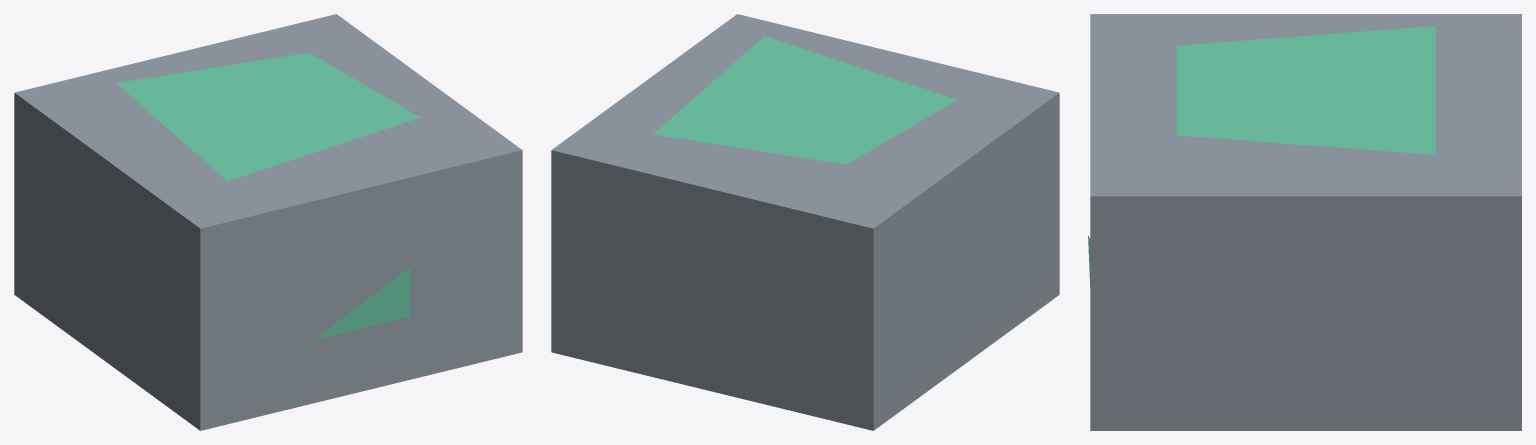
File: CO_PowerPlant_LOD1.glb
3 renders of one model, left to right at view 1: azimuth 30°, elevation 25°; view 2: azimuth 150°, elevation 25°; view 3: azimuth 270°, elevation 25°, orthographic. The views are drawn at different scales.
Visible parts, largest first — view 1: EntranceGate; view 2: EntranceGate; view 3: EntranceGate.
Boxes of the visible parts, x1,y1,x2,y2 form: EntranceGate: (14, 14, 522, 430); EntranceGate: (551, 14, 1059, 430); EntranceGate: (1088, 14, 1521, 430).
Bounding box in the file's own units: 600 × 398 × 603.
